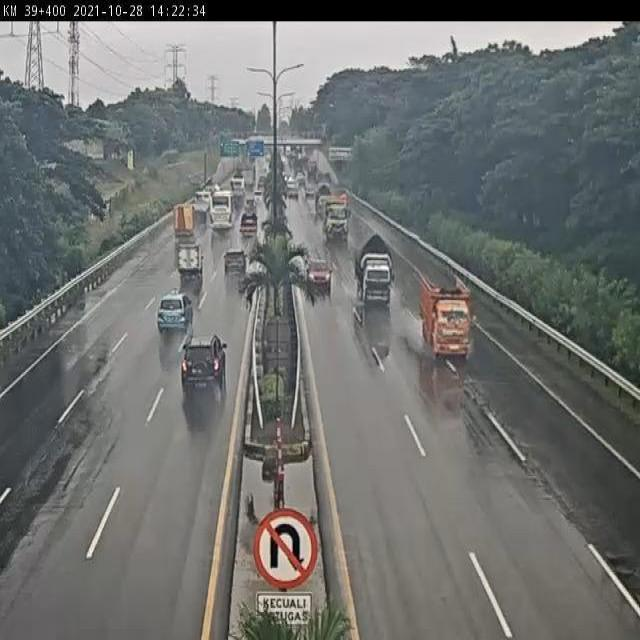bus-l-: (206, 185, 238, 232)
car: (175, 242, 204, 282)
truck-l-: (320, 196, 351, 245)
truck-s-: (417, 273, 473, 364), (355, 232, 396, 312), (170, 201, 195, 243), (237, 211, 261, 240)
